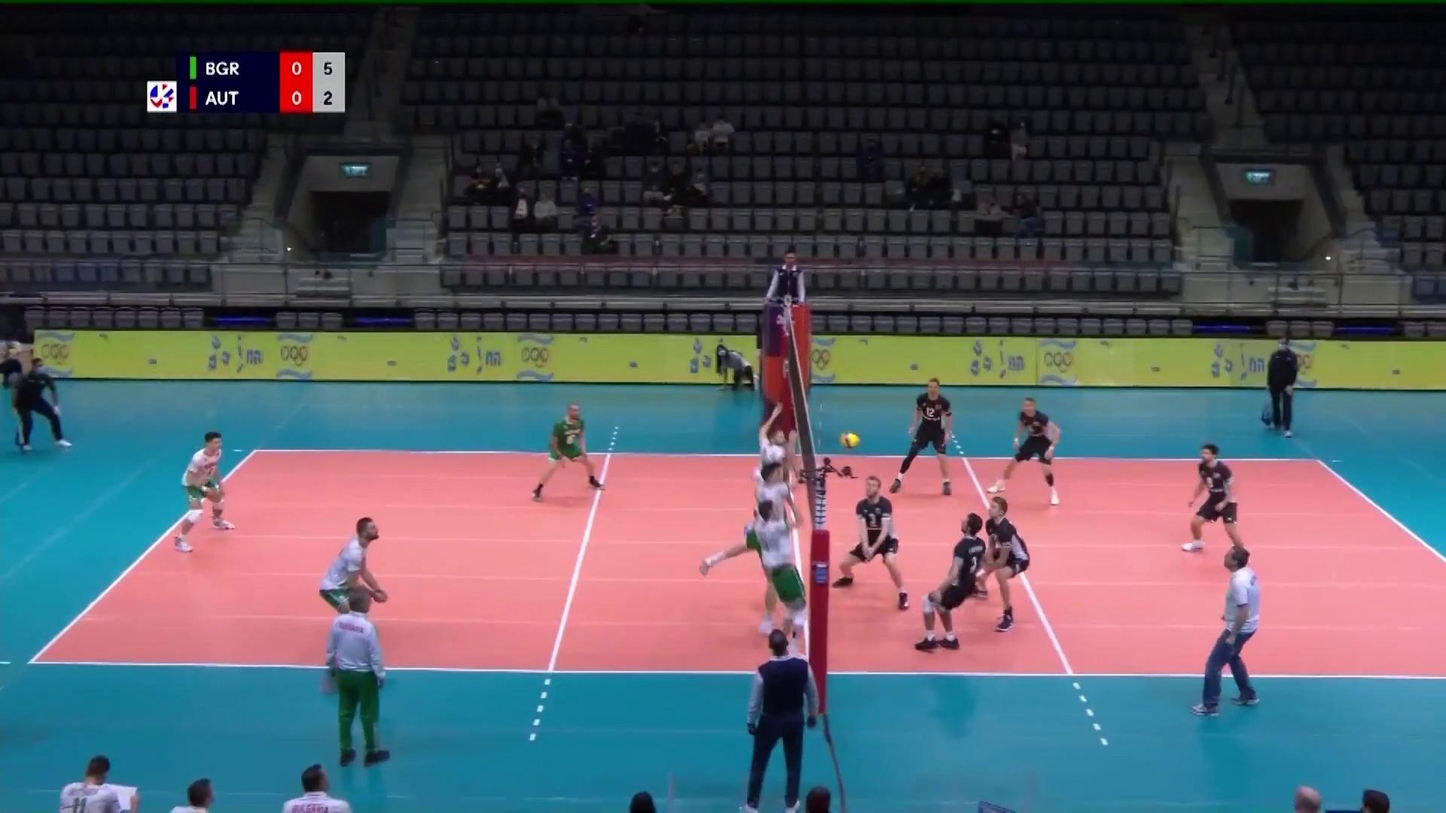ball: (840, 430, 861, 450)
